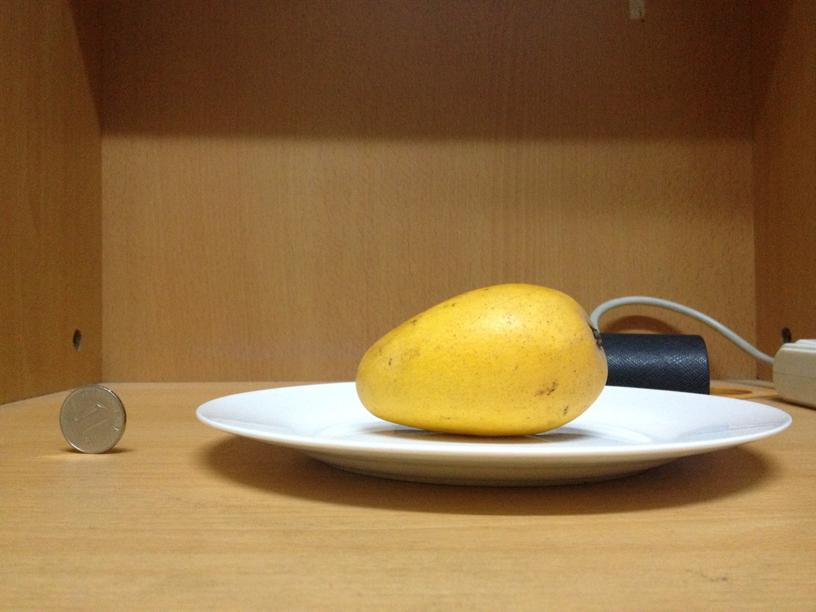coin: (60, 384, 125, 452)
mango: (362, 282, 606, 434)
